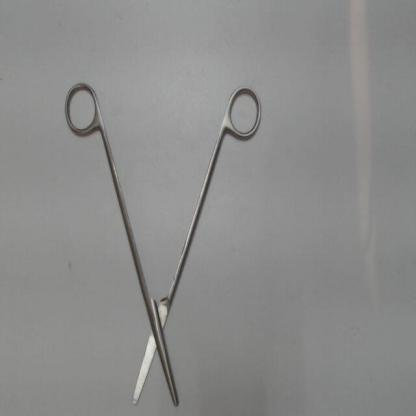9 Metzenbaum Scissors: (61, 75, 268, 409)
